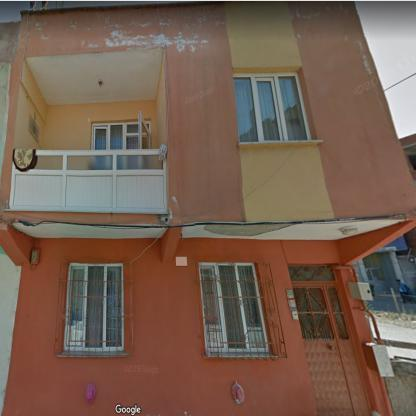door: (288, 267, 370, 414), (139, 111, 150, 149)
window: (199, 263, 267, 354), (234, 73, 311, 141), (64, 264, 122, 350), (91, 123, 138, 149)
